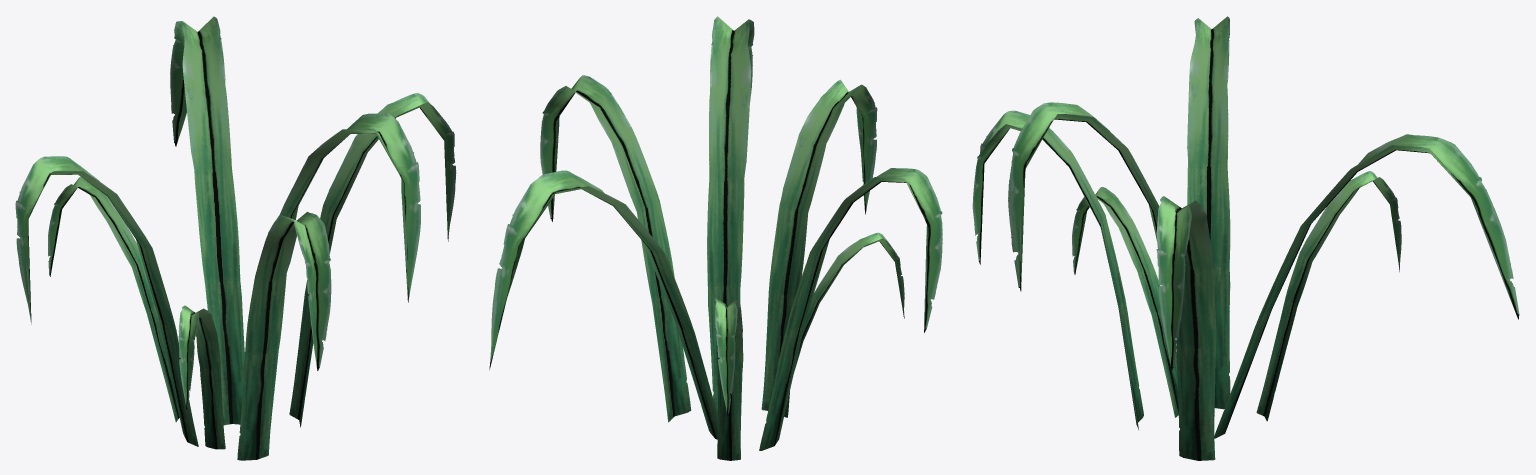
File: SM_Weed.fbx
3 views of the same model, side by side, from view 1: azimuth 30°, elevation 25°; view 2: azimuth 150°, elevation 25°; view 3: azimuth 270°, elevation 25° (orthographic). The views are drawn at different scales.
Parts seen in each view (by area): view 1: SM_Weed; view 2: SM_Weed; view 3: SM_Weed.
Boxes of the visible parts, box(x1,y1,x2,y2) form: SM_Weed: box(15, 16, 456, 460); SM_Weed: box(489, 16, 942, 460); SM_Weed: box(972, 16, 1519, 460).
Size of the model in its own units: 23.53 by 18.97 by 26.17.
